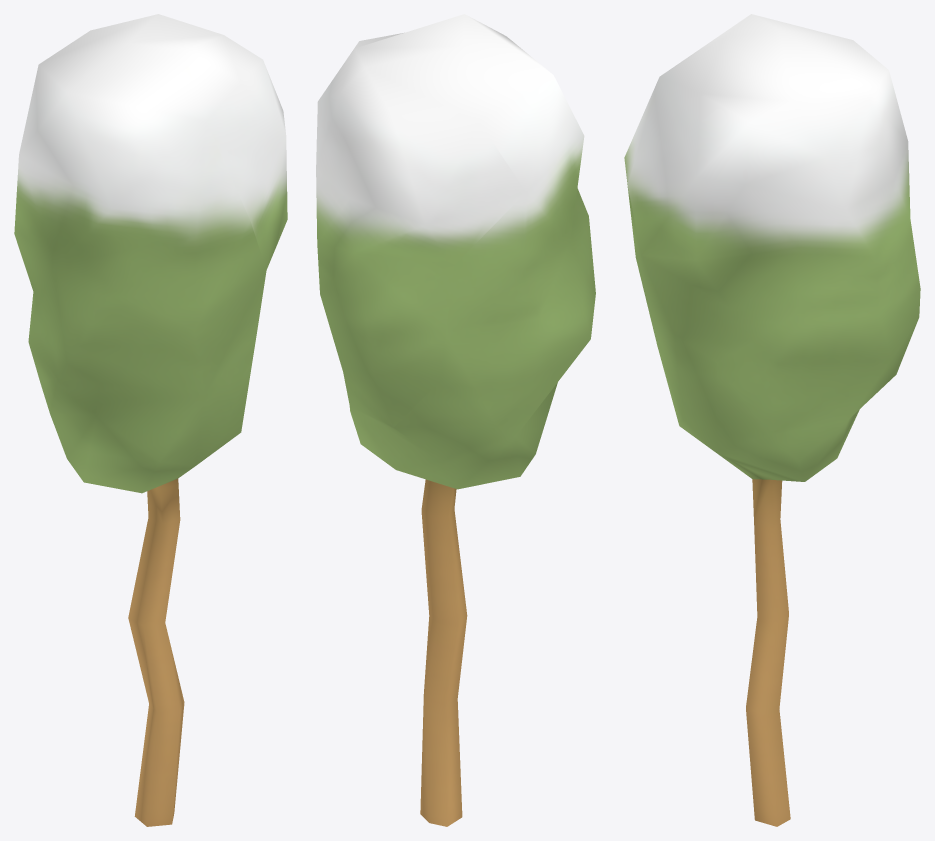
3 views of the same model, side by side, from view 1: azimuth 30°, elevation 25°; view 2: azimuth 150°, elevation 25°; view 3: azimuth 270°, elevation 25° (orthographic).
Visible parts, largest first — view 1: wLaza; view 2: wLaza; view 3: wLaza.
Part boxes in pixels (x1,y1,x2,y2): wLaza: [14, 14, 287, 826]; wLaza: [316, 14, 595, 826]; wLaza: [624, 14, 920, 826].
Size of the model in its own units: 2.33 by 7.38 by 2.54.
Materials: 1 (1 with a texture image).
